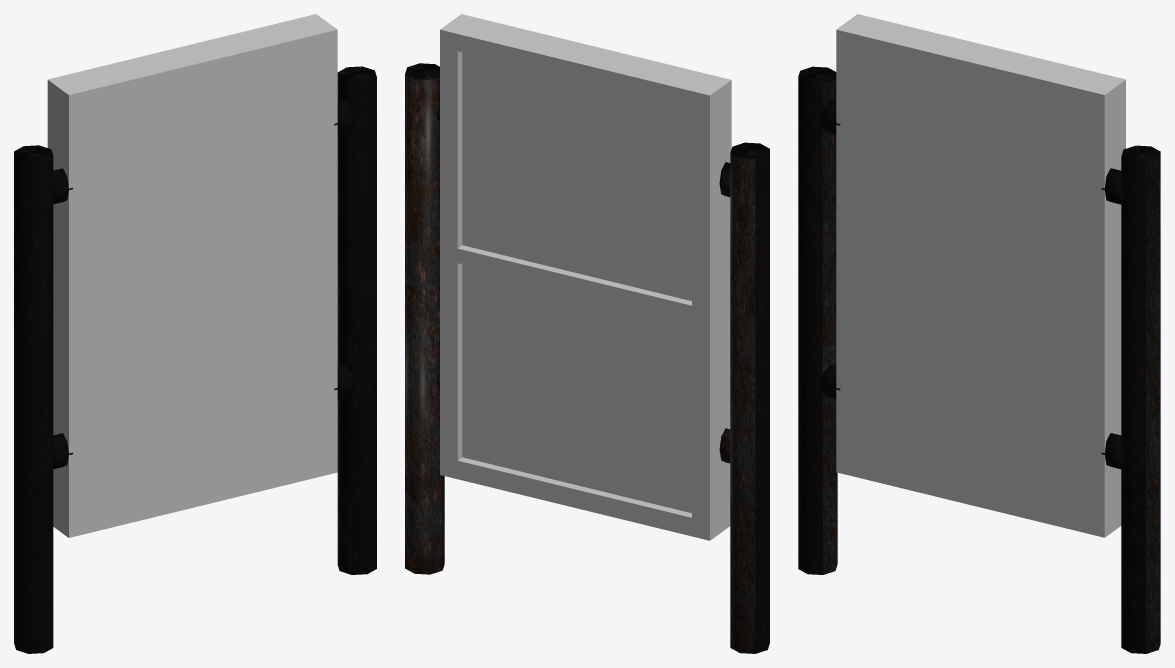
Rendered from obstacle_right.dae.
3 views of the same model, side by side, from view 1: azimuth 30°, elevation 25°; view 2: azimuth 150°, elevation 25°; view 3: azimuth 330°, elevation 25° (orthographic).
Visible parts, largest first — view 1: ObstacleRight, Poles_001, Hinges_001; view 2: ObstacleRight, Poles_001, Hinges_001; view 3: ObstacleRight, Poles_001, Hinges_001.
Boxes of the visible parts, box(x1,y1,x2,y2) form: ObstacleRight: box(47, 14, 337, 537); Poles_001: box(14, 66, 376, 653); Hinges_001: box(51, 99, 355, 469); ObstacleRight: box(440, 14, 731, 540); Poles_001: box(405, 63, 769, 653); Hinges_001: box(436, 101, 730, 463); ObstacleRight: box(836, 14, 1125, 537); Poles_001: box(798, 66, 1160, 653); Hinges_001: box(819, 100, 1123, 469).
Size of the model in its own units: 2.48 by 0.2773 by 3.63.
